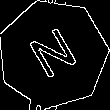N_SE: (23, 22, 83, 86)
